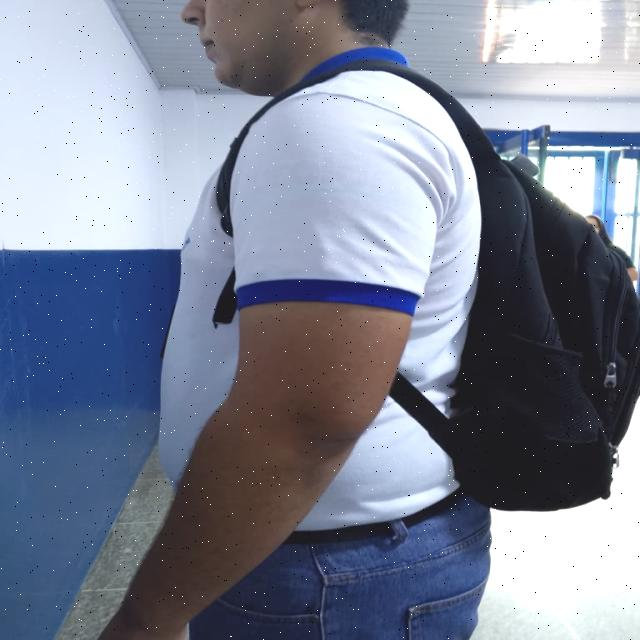uniforme_superior: (158, 45, 482, 532)
